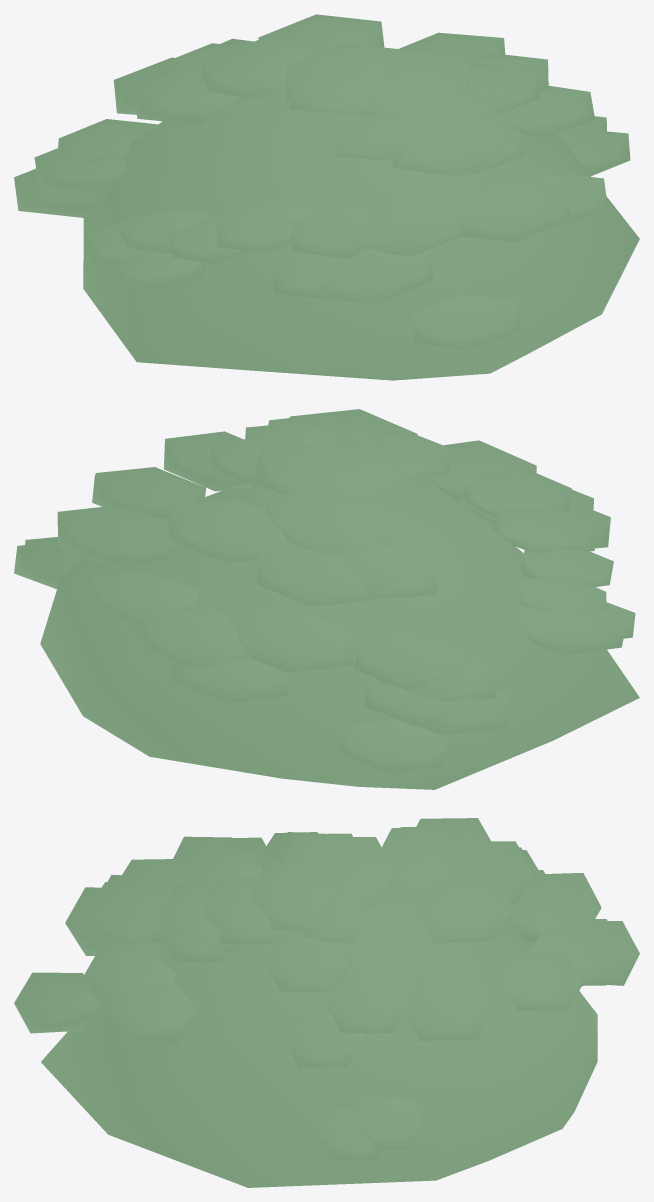
The model's file is Blender_Salal_1.glb.
3 renders of one model, top to bottom at view 1: azimuth 30°, elevation 25°; view 2: azimuth 150°, elevation 25°; view 3: azimuth 270°, elevation 25°, orthographic. The views are drawn at different scales.
Parts seen in each view (by area): view 1: Blender_Salal_1; view 2: Blender_Salal_1; view 3: Blender_Salal_1.
Boxes of the visible parts, x1,y1,x2,y2 form: Blender_Salal_1: [14, 14, 639, 380]; Blender_Salal_1: [14, 409, 639, 789]; Blender_Salal_1: [14, 818, 639, 1187].
Size of the model in its own units: 1.64 by 0.6807 by 1.54.
